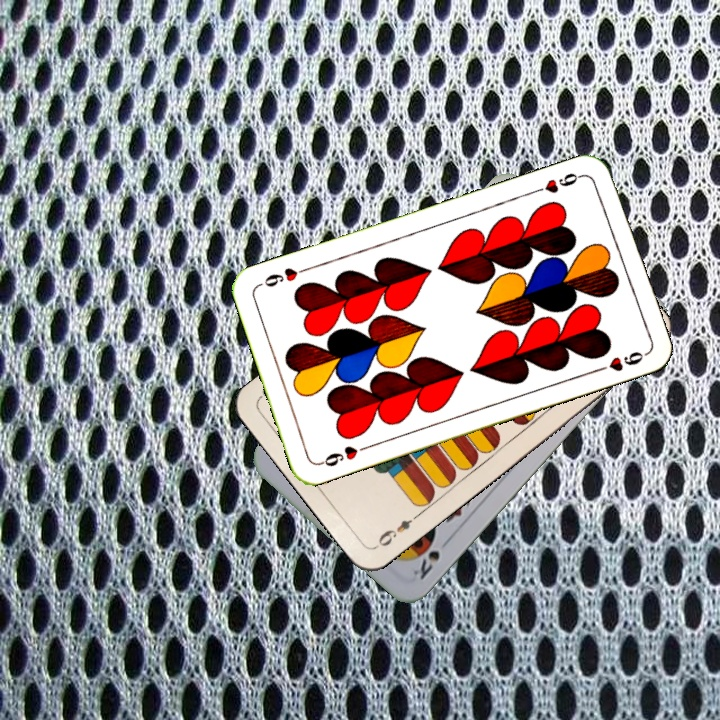E9: (371, 509, 422, 550)
H9: (315, 441, 372, 470), (530, 168, 587, 196)
SK: (409, 546, 443, 583)
